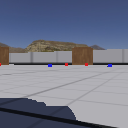blue_cube: (107, 63, 112, 67), (47, 64, 52, 67)
obstacle: (72, 47, 93, 64), (1, 47, 9, 65)
red_cube: (85, 63, 88, 66), (65, 63, 68, 66), (1, 63, 2, 67)
